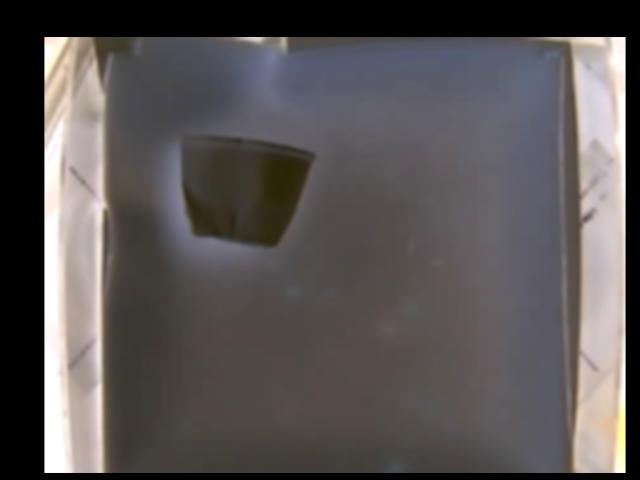Cup: (180, 134, 312, 245)
